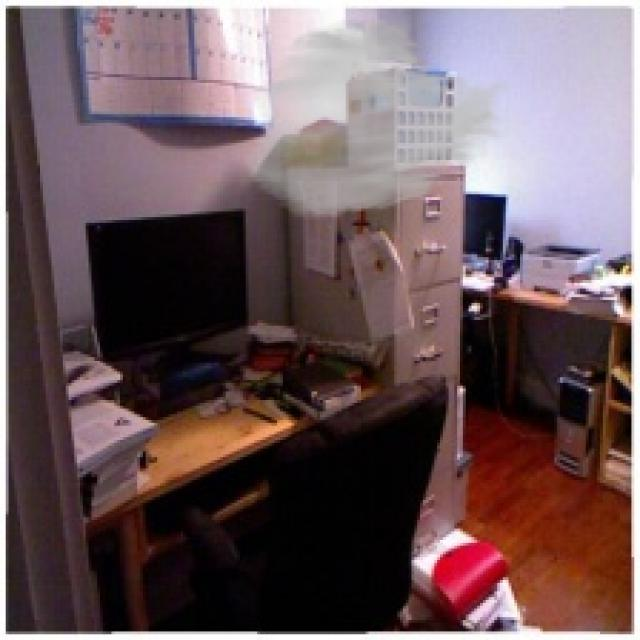smoke: (240, 14, 514, 220)
